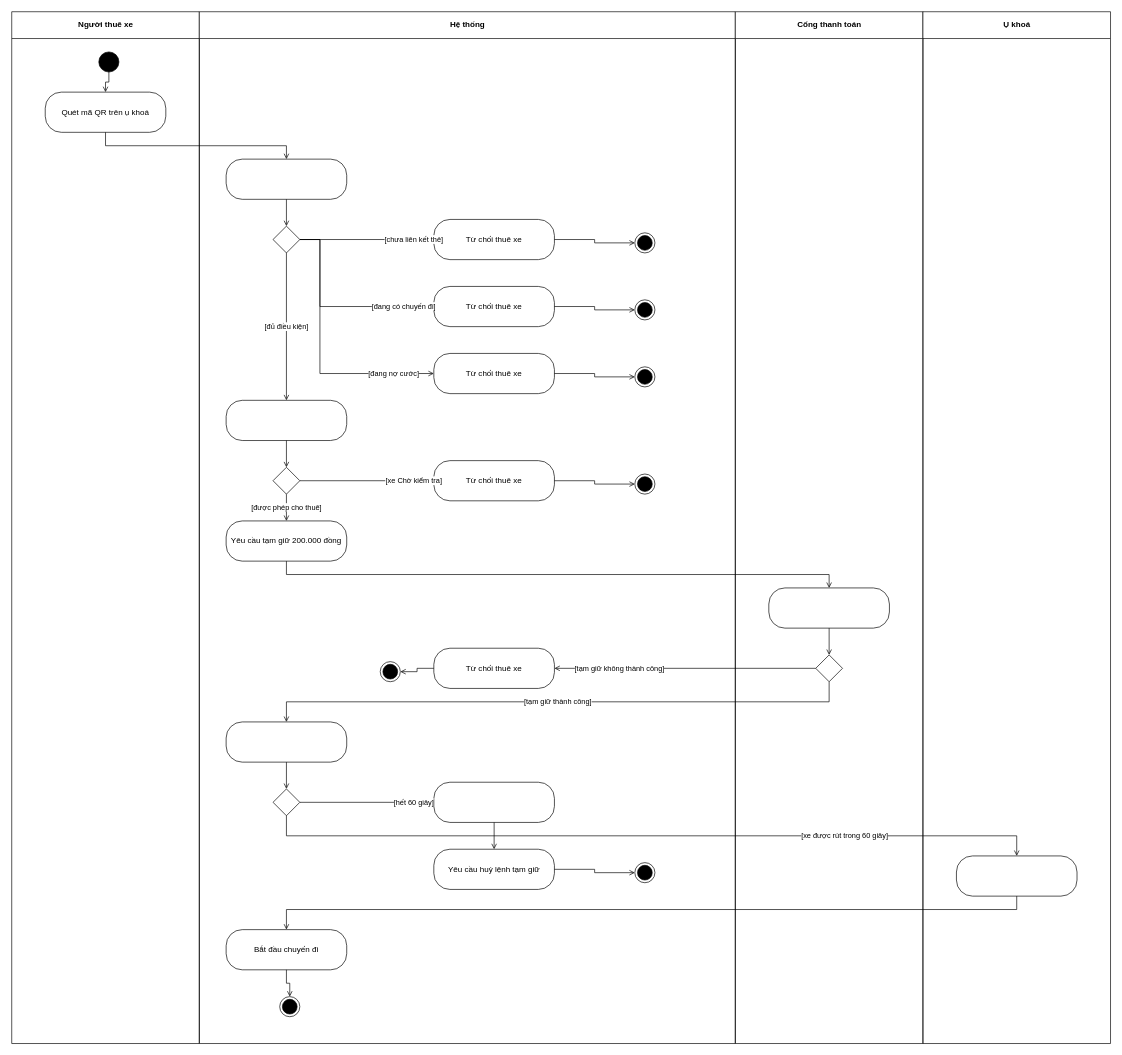
The diagram is 1122 pixels wide and 1055 high, and some of its shapes have lost their labels. The centre of each missing label's shape, as x and y in pixels:
Báo xe đã được rút ra: pixel 1016 875
Gửi lệnh khoá lại ụ khoá: pixel 493 802
Gửi lệnh mở khoá tới ụ khoá: pixel 286 741
Kiểm tra liên kết thẻ, chuyến đang diễn ra, nợ cước: pixel 286 178
Kiểm tra xe tại ụ được phép cho thuê: pixel 286 420
Trả kết quả tạm giữ: pixel 828 607
